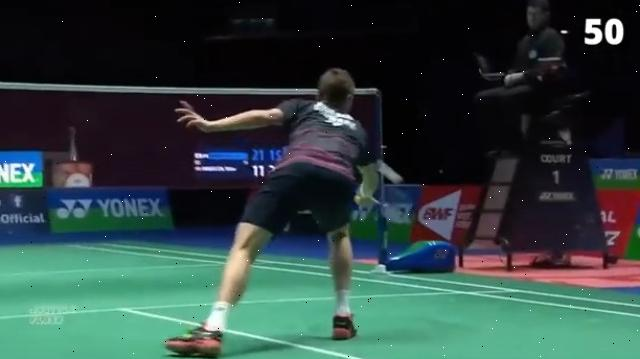Shuttlecock: (384, 164, 402, 184)
